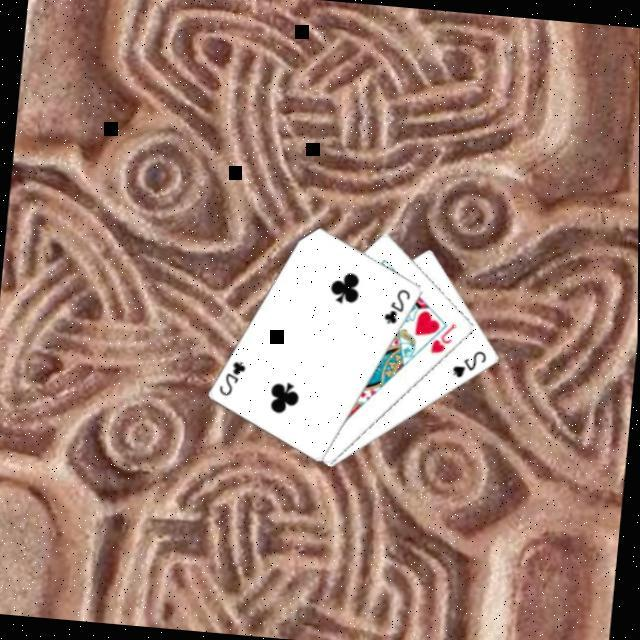2C: (381, 282, 415, 326), (217, 354, 251, 398)
2S: (450, 344, 491, 381)
JH: (428, 317, 461, 355)
